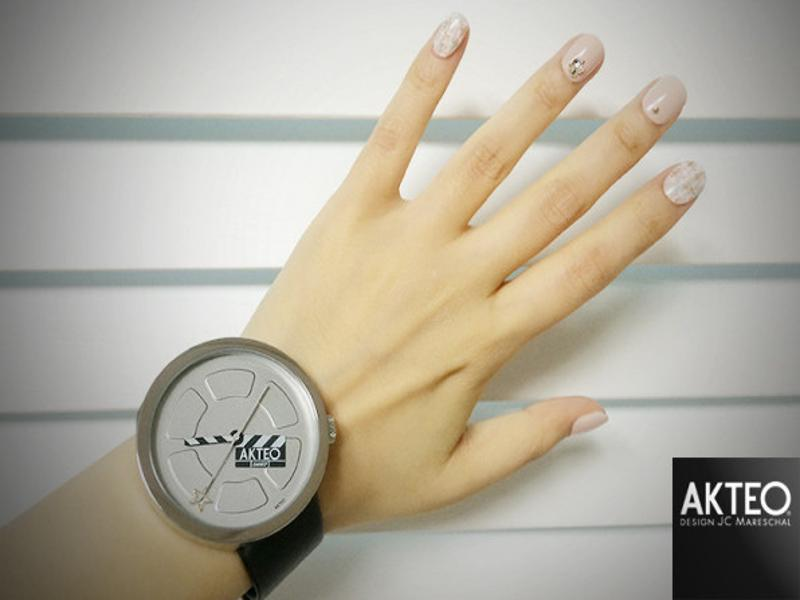watch: (132, 337, 341, 590)
